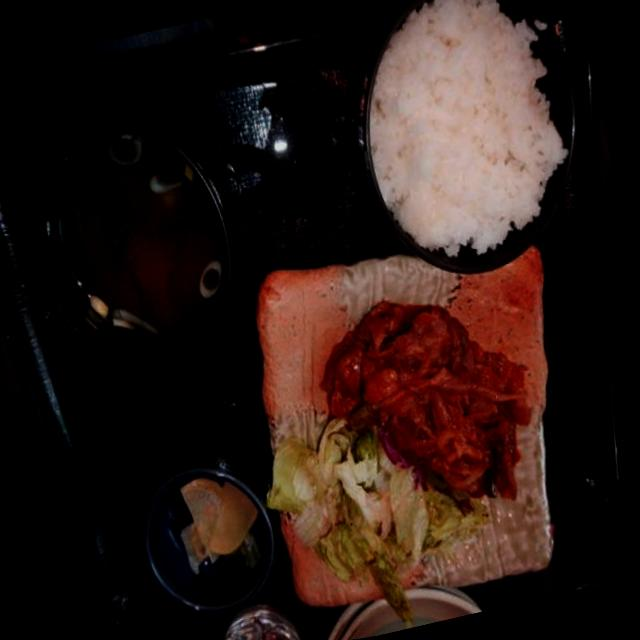Rice: (330, 0, 596, 283)
